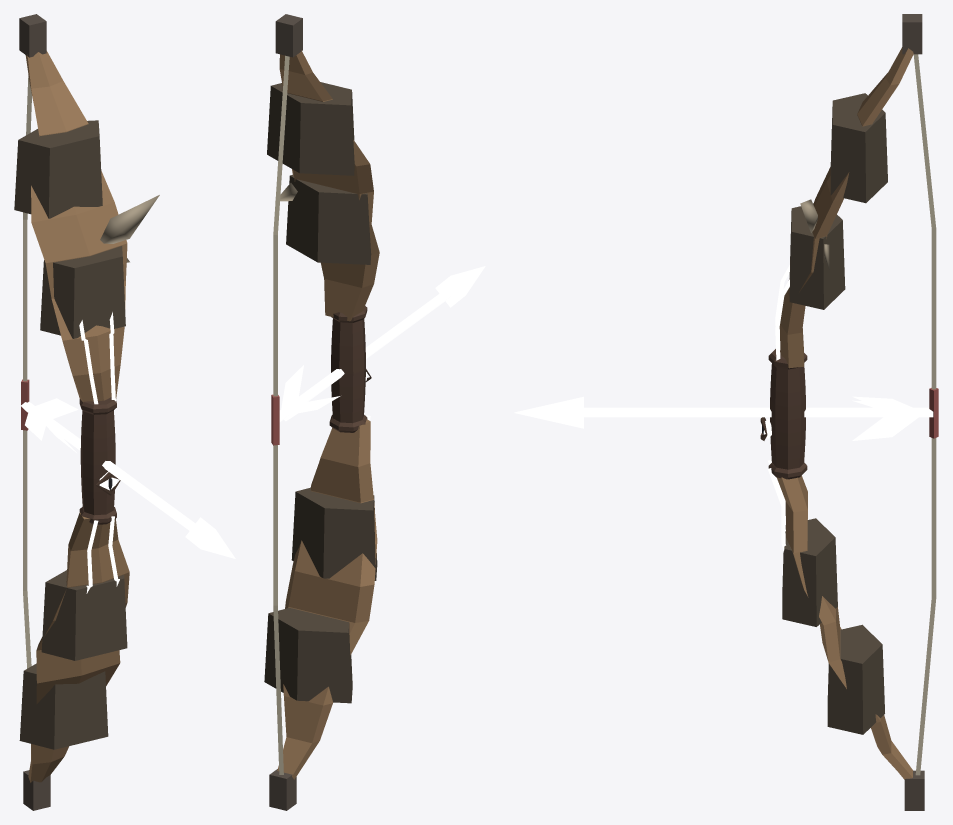
File: bow-hunting.glb
3 views of the same model, side by side, from view 1: azimuth 30°, elevation 25°; view 2: azimuth 150°, elevation 25°; view 3: azimuth 270°, elevation 25° (orthographic).
Parts seen in each view (by area): view 1: bow-hunting, pulse_arrow, string, pulse_vein; view 2: bow-hunting, string, pulse_arrow; view 3: bow-hunting, pulse_arrow, string, pulse_vein.
Part boxes in pixels (x1,y1,x2,y2): bow-hunting: (14,14,159,810); pulse_arrow: (21,398,235,558); string: (21,75,31,668); pulse_vein: (79,312,119,593); bow-hunting: (264,14,379,810); string: (271,55,289,774); pulse_arrow: (279,266,485,421); bow-hunting: (768,14,924,810); pulse_arrow: (514,396,933,440); string: (913,54,938,775); pulse_vein: (768,265,789,550).
Bounding box in the file's own units: 0.2212 × 1.47 × 0.7206.
